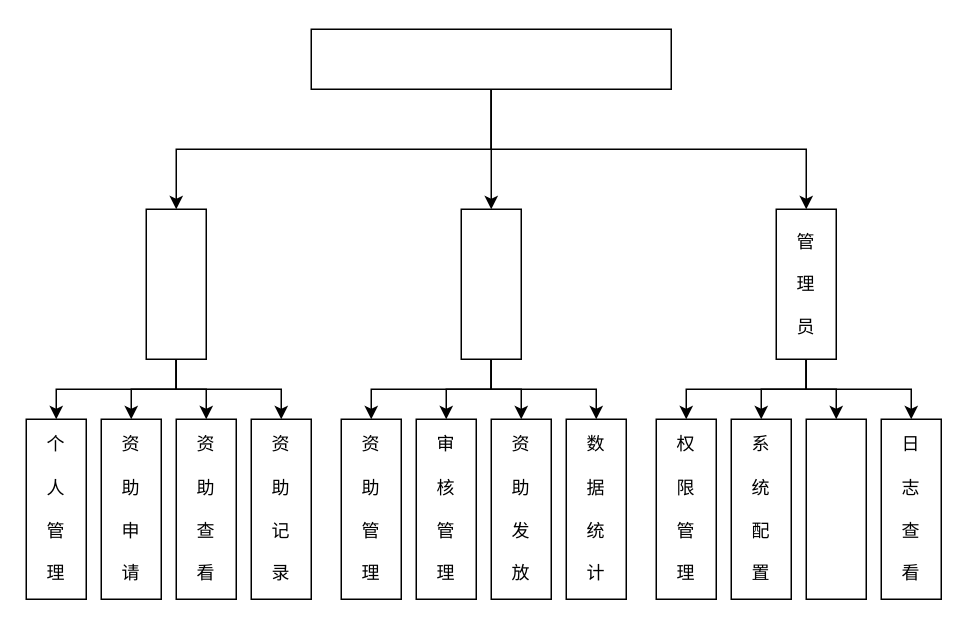
The diagram is 968 pixels wide and 638 high, and some of its shapes have lost their labels. The box of each missing label's shape, as (x1, y1, x2, y2) in pixels:
学 生: (145, 208, 206, 359)
教 师: (460, 208, 521, 359)
数 据 管 理: (805, 418, 866, 599)
高校资助 信 息管理系统设计: (310, 28, 671, 89)
